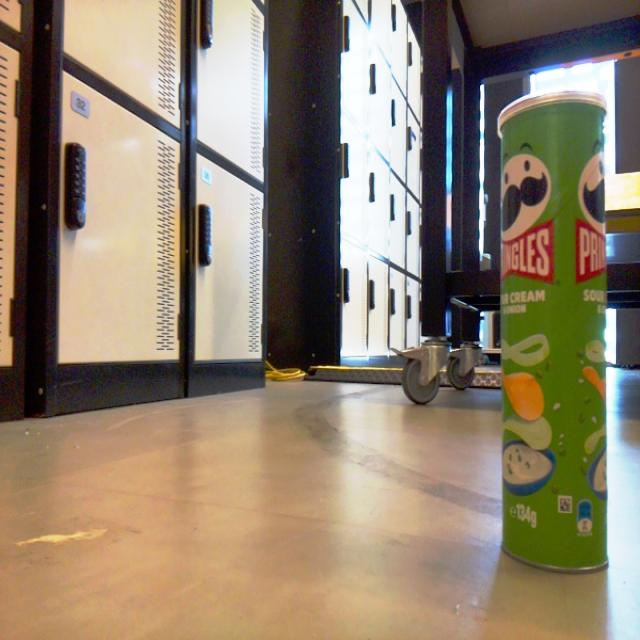greenpringles: (470, 69, 630, 587)
